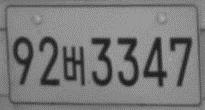2: (38, 35, 60, 86)
3: (90, 37, 113, 86), (116, 37, 139, 86)
4: (142, 36, 168, 87)
7: (169, 36, 192, 87)
9: (12, 36, 34, 84)
버: (62, 44, 85, 87)
